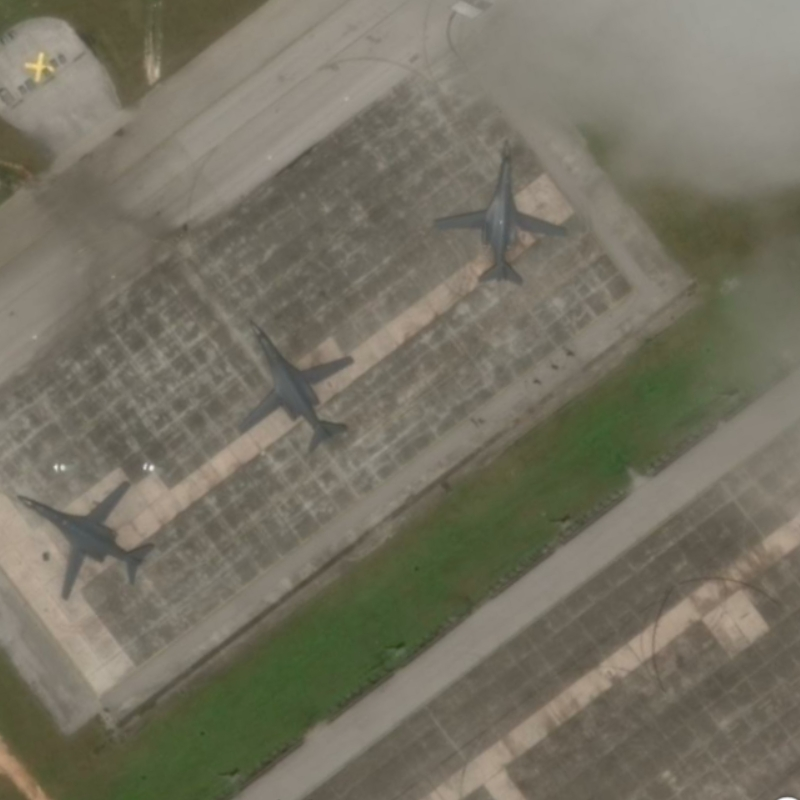A10: (429, 136, 573, 290), (11, 477, 160, 606), (234, 312, 361, 458)
